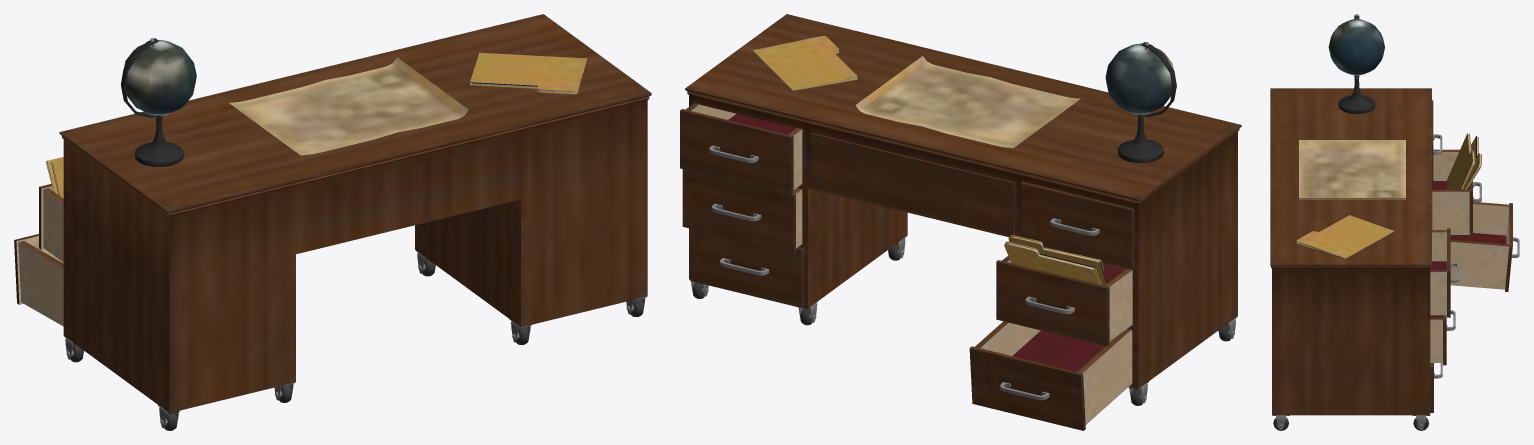
3 renders of one model, left to right at view 1: azimuth 30°, elevation 25°; view 2: azimuth 150°, elevation 25°; view 3: azimuth 270°, elevation 25°, orthographic. The views are drawn at different scales.
Parts seen in each view (by area): view 1: Object_3; view 2: Object_3; view 3: Object_3.
Boxes of the visible parts, <box> form: Object_3: <box>14,14,651,430</box>; Object_3: <box>680,14,1241,430</box>; Object_3: <box>1270,14,1519,430</box>.
Size of the model in its own units: 5.28 by 3.61 by 3.16.
1 material, 1 textured.
